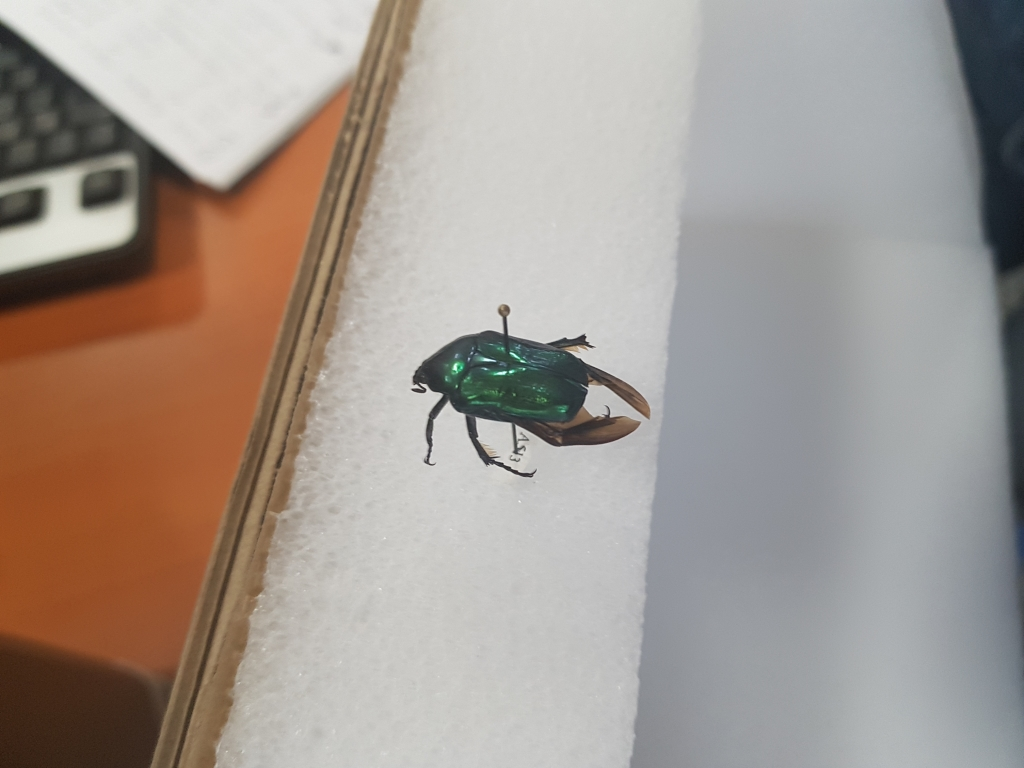Protaetia_angustata_angustata: (401, 324, 656, 486)
